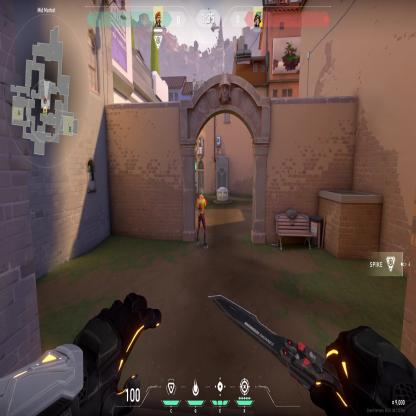enemy: (196, 189, 209, 251)
